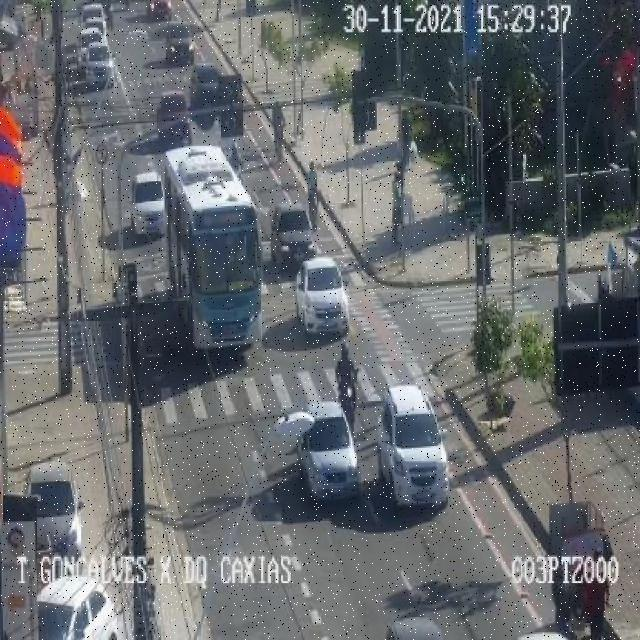Bus: (165, 142, 263, 374)
Car: (374, 377, 468, 506), (292, 399, 362, 502), (25, 462, 85, 560), (36, 575, 123, 637), (294, 257, 348, 339), (269, 203, 317, 269), (130, 173, 166, 238), (156, 92, 191, 147), (82, 42, 115, 89), (162, 21, 195, 66), (190, 64, 225, 105), (82, 2, 106, 29)
Cycle: (526, 458, 640, 639), (325, 338, 359, 398)
